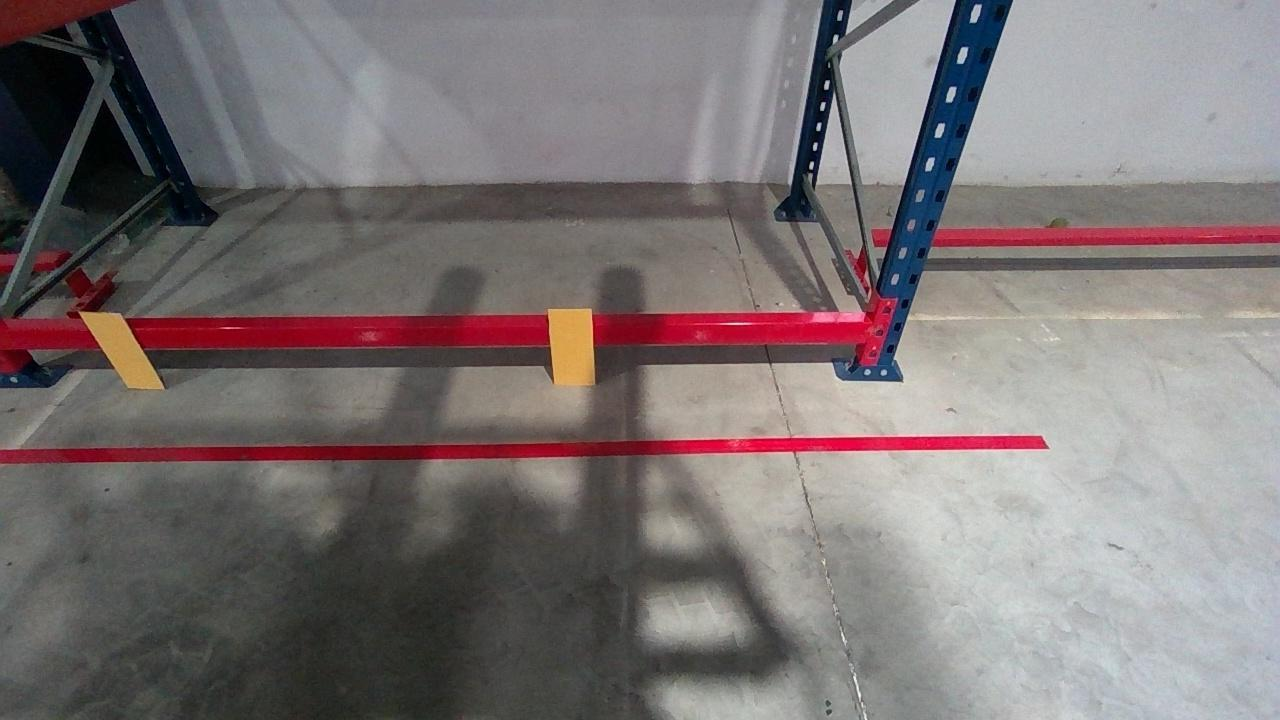h_rack: (3, 323, 873, 349)
orange_strip: (75, 313, 165, 388), (545, 308, 595, 384)
red_line: (2, 434, 1051, 463)
